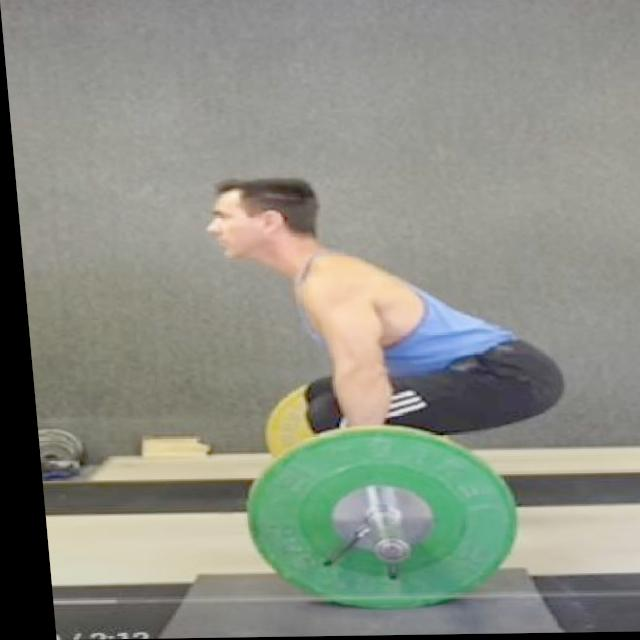barbell: (230, 422, 517, 621)
